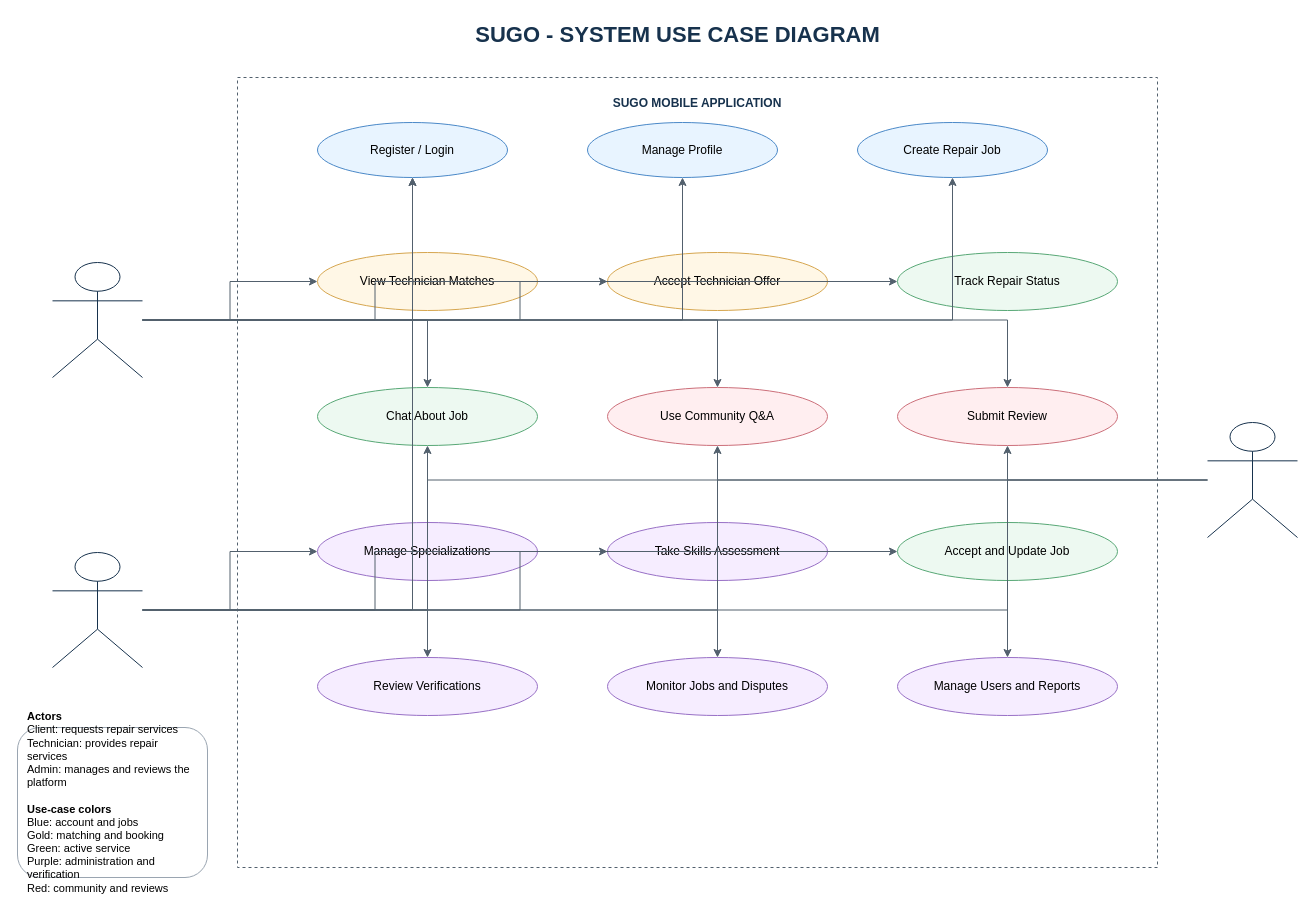
Some shapes in this 1315 by 912 pixel diagram are drawn without their labels. Each missing label, with the centre of its shape:
"Admin" goes at pixel 1252 480.
"Client" goes at pixel 97 320.
"Technician" goes at pixel 97 610.
